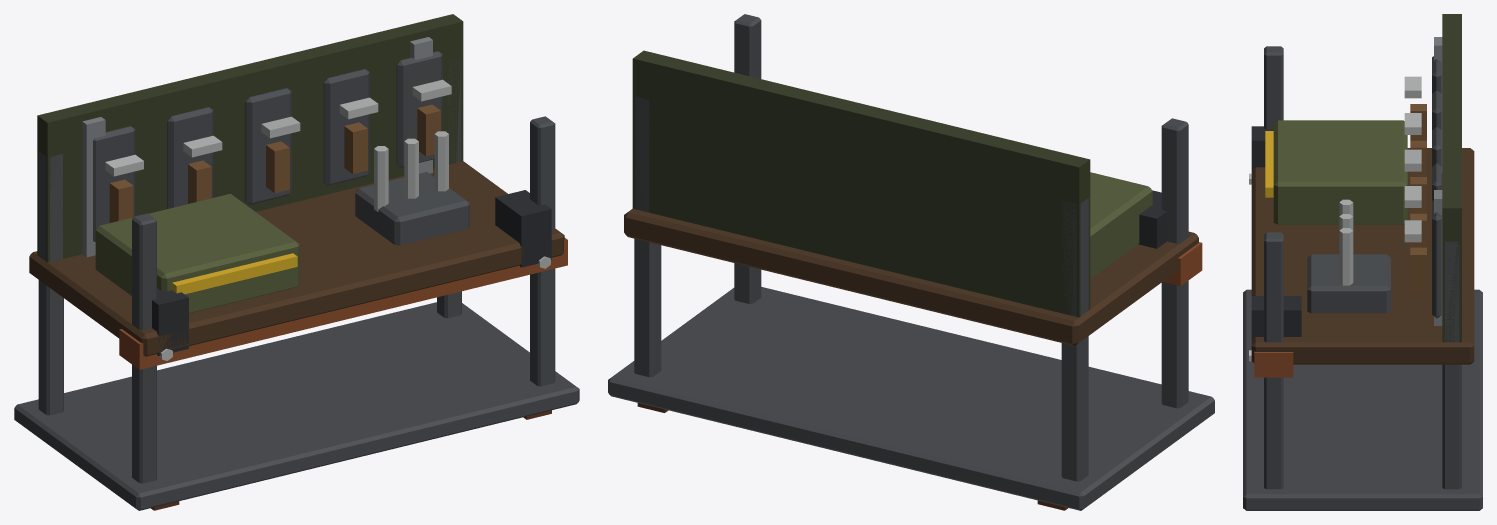
File: piece_armory.fbx
3 views of the same model, side by side, from view 1: azimuth 30°, elevation 25°; view 2: azimuth 150°, elevation 25°; view 3: azimuth 270°, elevation 25° (orthographic). The views are drawn at different scales.
Parts seen in each view (by area): view 1: piece_armory; view 2: piece_armory; view 3: piece_armory.
Part boxes in pixels (x1,y1,x2,y2): piece_armory: (14,14,579,510); piece_armory: (608,14,1214,510); piece_armory: (1243,14,1482,510).
Bounding box in the file's own units: 1.56 × 1.07 × 0.7644.
